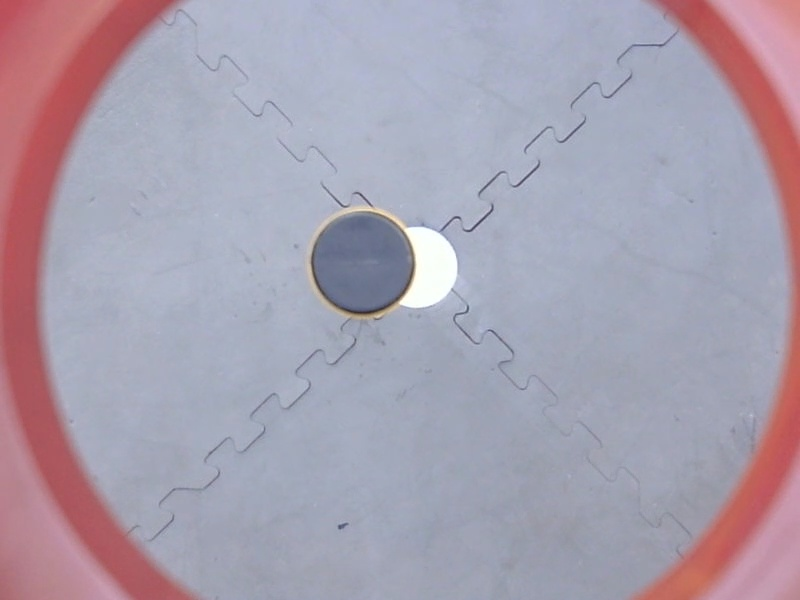tip: (301, 202, 423, 327)
